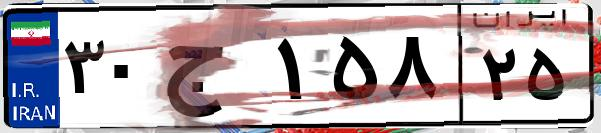0: (110, 28, 158, 98)
1: (270, 28, 330, 110)
2: (475, 38, 525, 113)
3: (57, 26, 110, 100)
5: (330, 28, 385, 110), (525, 38, 570, 115)
8: (385, 28, 445, 110)
ج: (158, 20, 270, 120)
